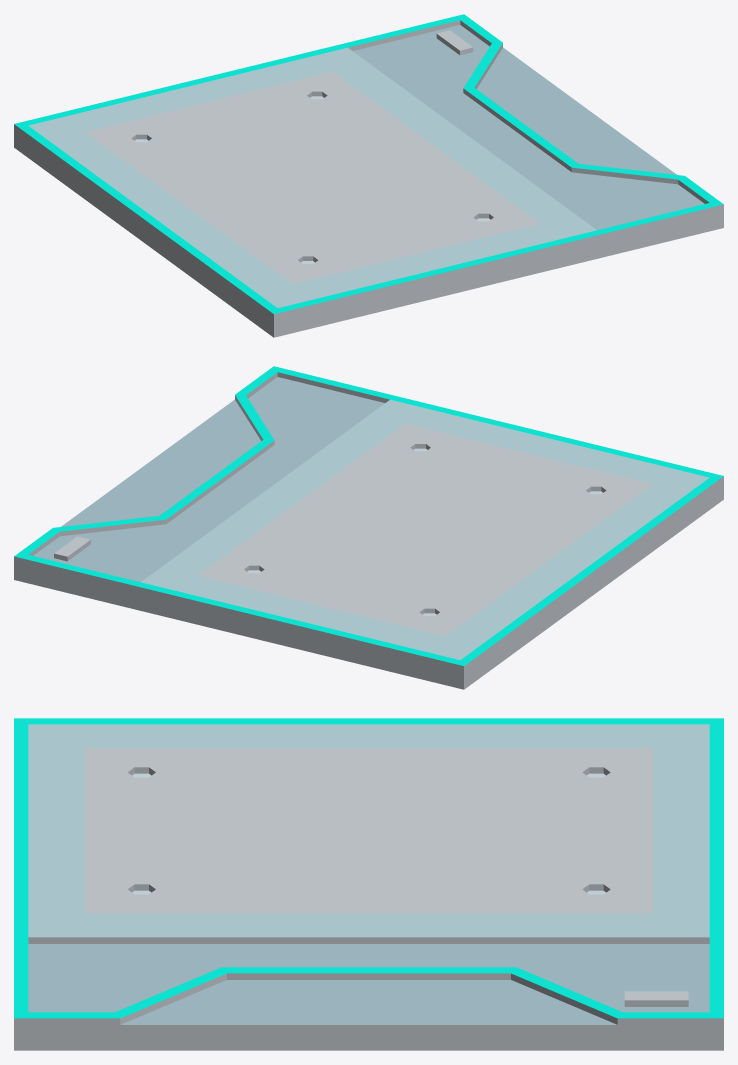
The model's file is floor-03.fbx.
3 renders of one model, top to bottom at view 1: azimuth 30°, elevation 25°; view 2: azimuth 150°, elevation 25°; view 3: azimuth 270°, elevation 25°, orthographic. The views are drawn at different scales.
Parts seen in each view (by area): view 1: floor-03; view 2: floor-03; view 3: floor-03.
Part boxes in pixels (bbox=[...]): floor-03: bbox=[14, 14, 723, 337]; floor-03: bbox=[14, 366, 723, 689]; floor-03: bbox=[14, 718, 723, 1050].
Size of the model in its own units: 100 by 5 by 100.
